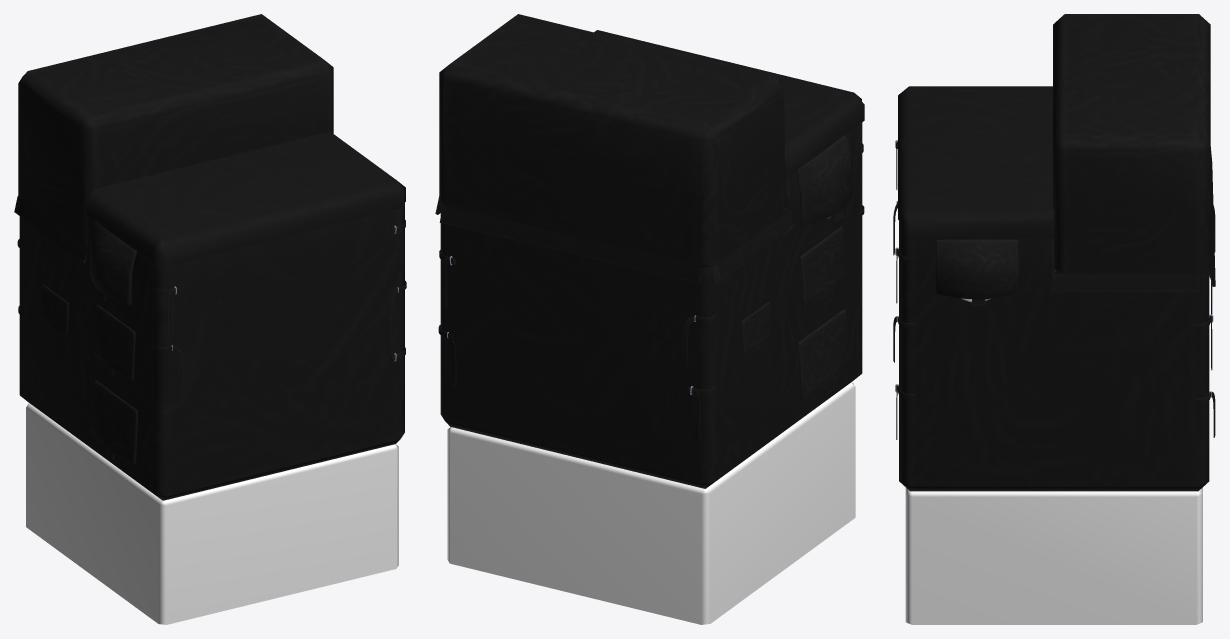
Rendered from Filter_Static.fbx.
The picture shows the model from 3 angles, left to right: view 1: azimuth 30°, elevation 25°; view 2: azimuth 150°, elevation 25°; view 3: azimuth 270°, elevation 25°; orthographic projection. The views are drawn at different scales.
Parts seen in each view (by area): view 1: Filter_Static; view 2: Filter_Static; view 3: Filter_Static.
Part boxes in pixels (<box>): Filter_Static: <box>14,14,406,624</box>; Filter_Static: <box>435,14,864,624</box>; Filter_Static: <box>893,14,1215,624</box>.
Bounding box in the file's own units: 1.64 × 2.46 × 1.48.
